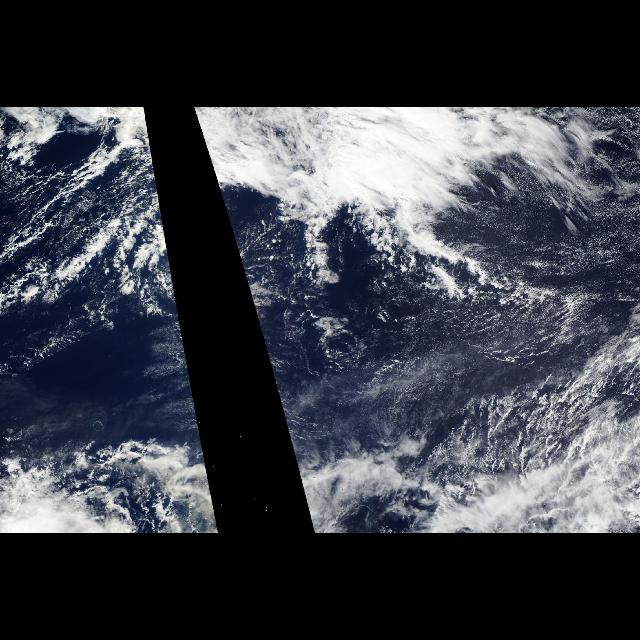Gravel: (13, 176, 159, 332)
Sugar: (312, 108, 640, 456)
